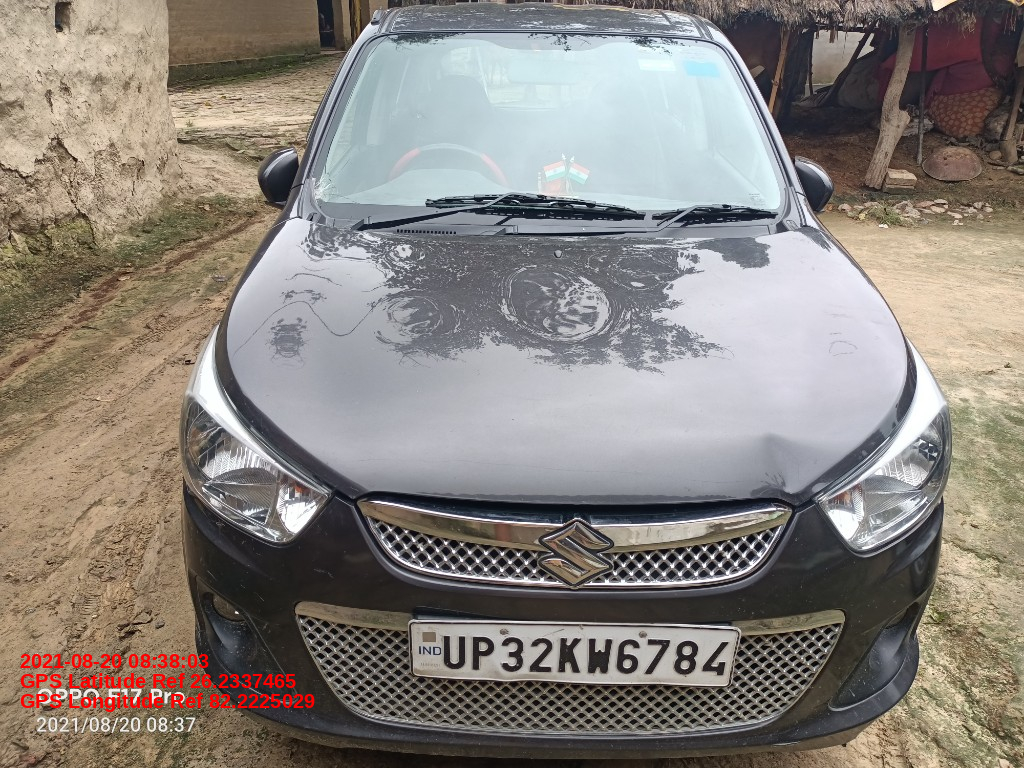Pressed: (741, 431, 834, 506)
Scratched: (311, 559, 343, 586)
